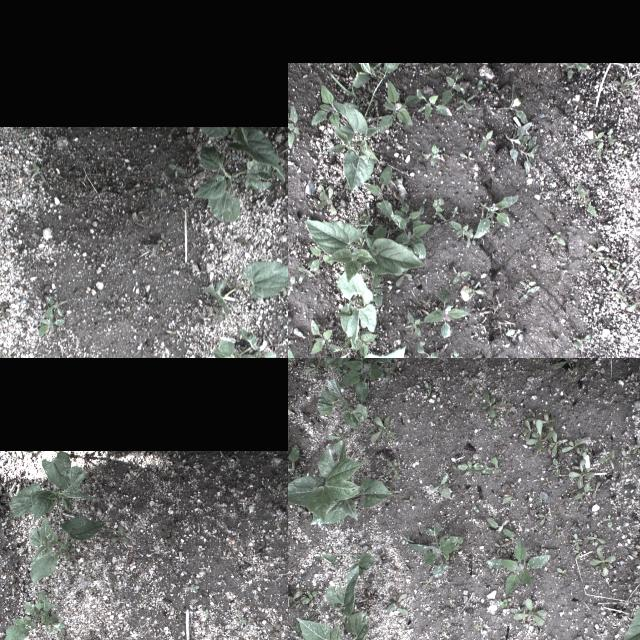crop: (303, 218, 432, 358), (288, 446, 390, 527), (288, 550, 373, 640), (309, 82, 376, 192), (192, 146, 270, 222), (7, 453, 89, 523), (26, 518, 104, 586), (204, 260, 288, 323), (200, 128, 284, 184), (305, 358, 404, 397), (316, 378, 366, 430), (206, 339, 236, 358)
weed: (484, 534, 556, 598), (362, 164, 424, 236), (450, 190, 522, 250), (494, 85, 536, 171), (418, 281, 478, 341), (403, 520, 465, 578), (4, 589, 69, 640), (378, 79, 418, 133), (478, 386, 518, 430), (550, 430, 588, 476), (521, 408, 557, 456), (505, 597, 549, 631), (413, 85, 452, 121), (346, 64, 402, 88), (236, 325, 276, 358), (307, 314, 337, 358), (584, 544, 622, 578), (288, 260, 319, 298), (585, 127, 617, 161), (575, 184, 601, 223), (440, 70, 468, 106), (364, 414, 394, 446), (288, 428, 303, 489), (380, 591, 412, 619), (36, 307, 64, 338), (566, 456, 596, 484), (528, 494, 554, 526), (456, 372, 482, 402), (424, 474, 450, 502), (312, 185, 336, 215), (483, 516, 513, 540), (481, 446, 505, 476), (446, 458, 480, 477), (612, 289, 640, 312), (610, 73, 640, 94), (296, 588, 322, 612), (320, 423, 350, 443), (542, 358, 579, 374), (43, 294, 67, 318), (582, 242, 606, 266), (570, 482, 602, 500), (452, 266, 482, 284), (566, 532, 584, 562), (429, 194, 447, 223), (494, 488, 520, 508), (403, 308, 421, 336), (423, 142, 441, 170), (382, 456, 404, 478), (562, 64, 592, 80), (461, 284, 487, 302), (530, 476, 556, 494), (288, 104, 299, 145), (600, 444, 616, 472), (106, 526, 128, 546), (414, 344, 445, 358), (493, 597, 517, 615), (587, 530, 609, 548), (516, 280, 540, 296), (571, 336, 595, 352), (455, 96, 475, 115), (401, 489, 421, 508), (398, 382, 418, 401), (618, 443, 632, 469), (551, 229, 569, 249), (261, 622, 281, 640), (468, 619, 488, 637), (412, 574, 432, 592), (438, 402, 458, 420), (30, 162, 46, 184), (552, 566, 574, 582), (478, 128, 492, 152), (602, 262, 622, 278), (458, 149, 474, 169), (198, 604, 214, 624), (398, 563, 418, 579), (595, 514, 617, 528), (288, 583, 300, 608), (270, 480, 286, 498), (450, 350, 484, 358), (300, 361, 320, 374), (419, 382, 435, 398), (490, 539, 508, 553), (557, 388, 571, 406), (406, 412, 426, 424), (168, 163, 185, 177), (470, 78, 486, 92), (377, 394, 393, 408), (627, 442, 640, 459), (550, 522, 562, 540), (433, 626, 448, 640), (466, 502, 479, 518), (154, 234, 168, 248), (232, 612, 246, 626), (451, 206, 459, 228), (531, 634, 558, 640), (288, 398, 296, 417), (84, 632, 100, 640), (634, 566, 640, 587), (0, 305, 10, 316), (288, 346, 297, 358), (154, 187, 166, 195), (184, 586, 200, 590), (19, 132, 25, 142), (283, 570, 288, 577)
